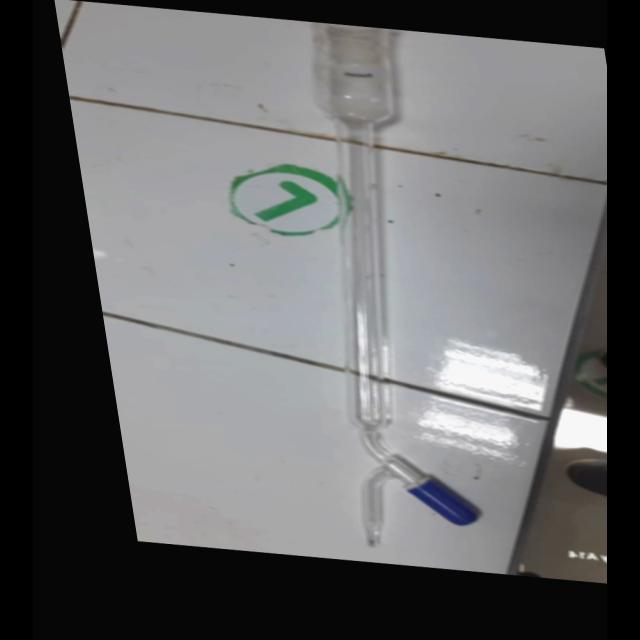Column Chromatography: (270, 22, 494, 558)
